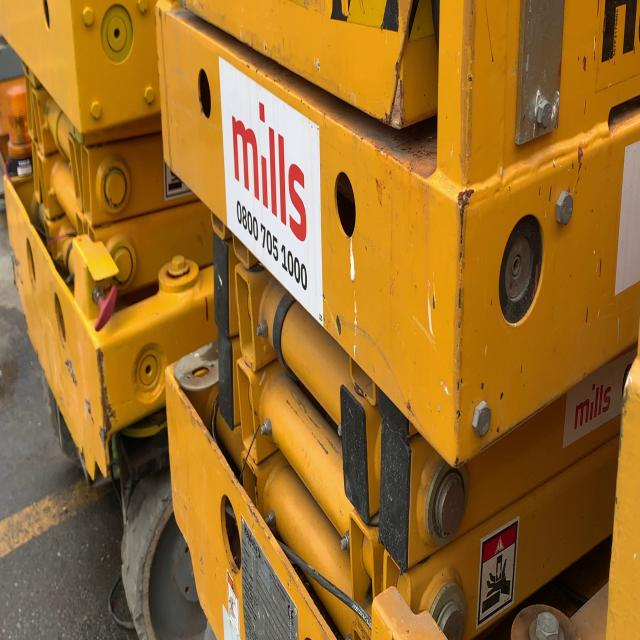Adesivos: (218, 52, 325, 330)
